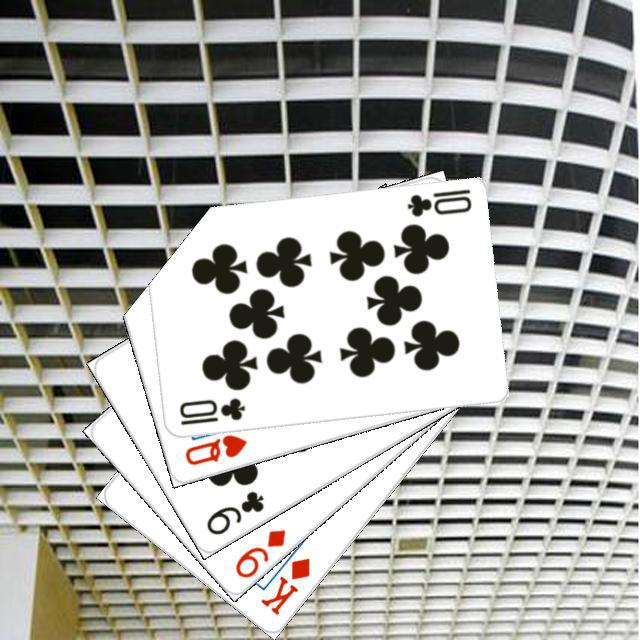10c: (402, 184, 473, 219), (174, 393, 247, 427)
9c: (201, 486, 266, 537)
9d: (229, 524, 288, 580)
Kd: (255, 552, 312, 617)
Qh: (179, 429, 249, 467)
